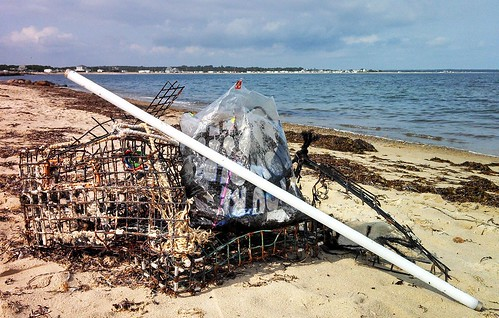sea: (128, 72, 499, 128)
sky: (1, 1, 492, 66)
trash: (6, 67, 365, 291)
